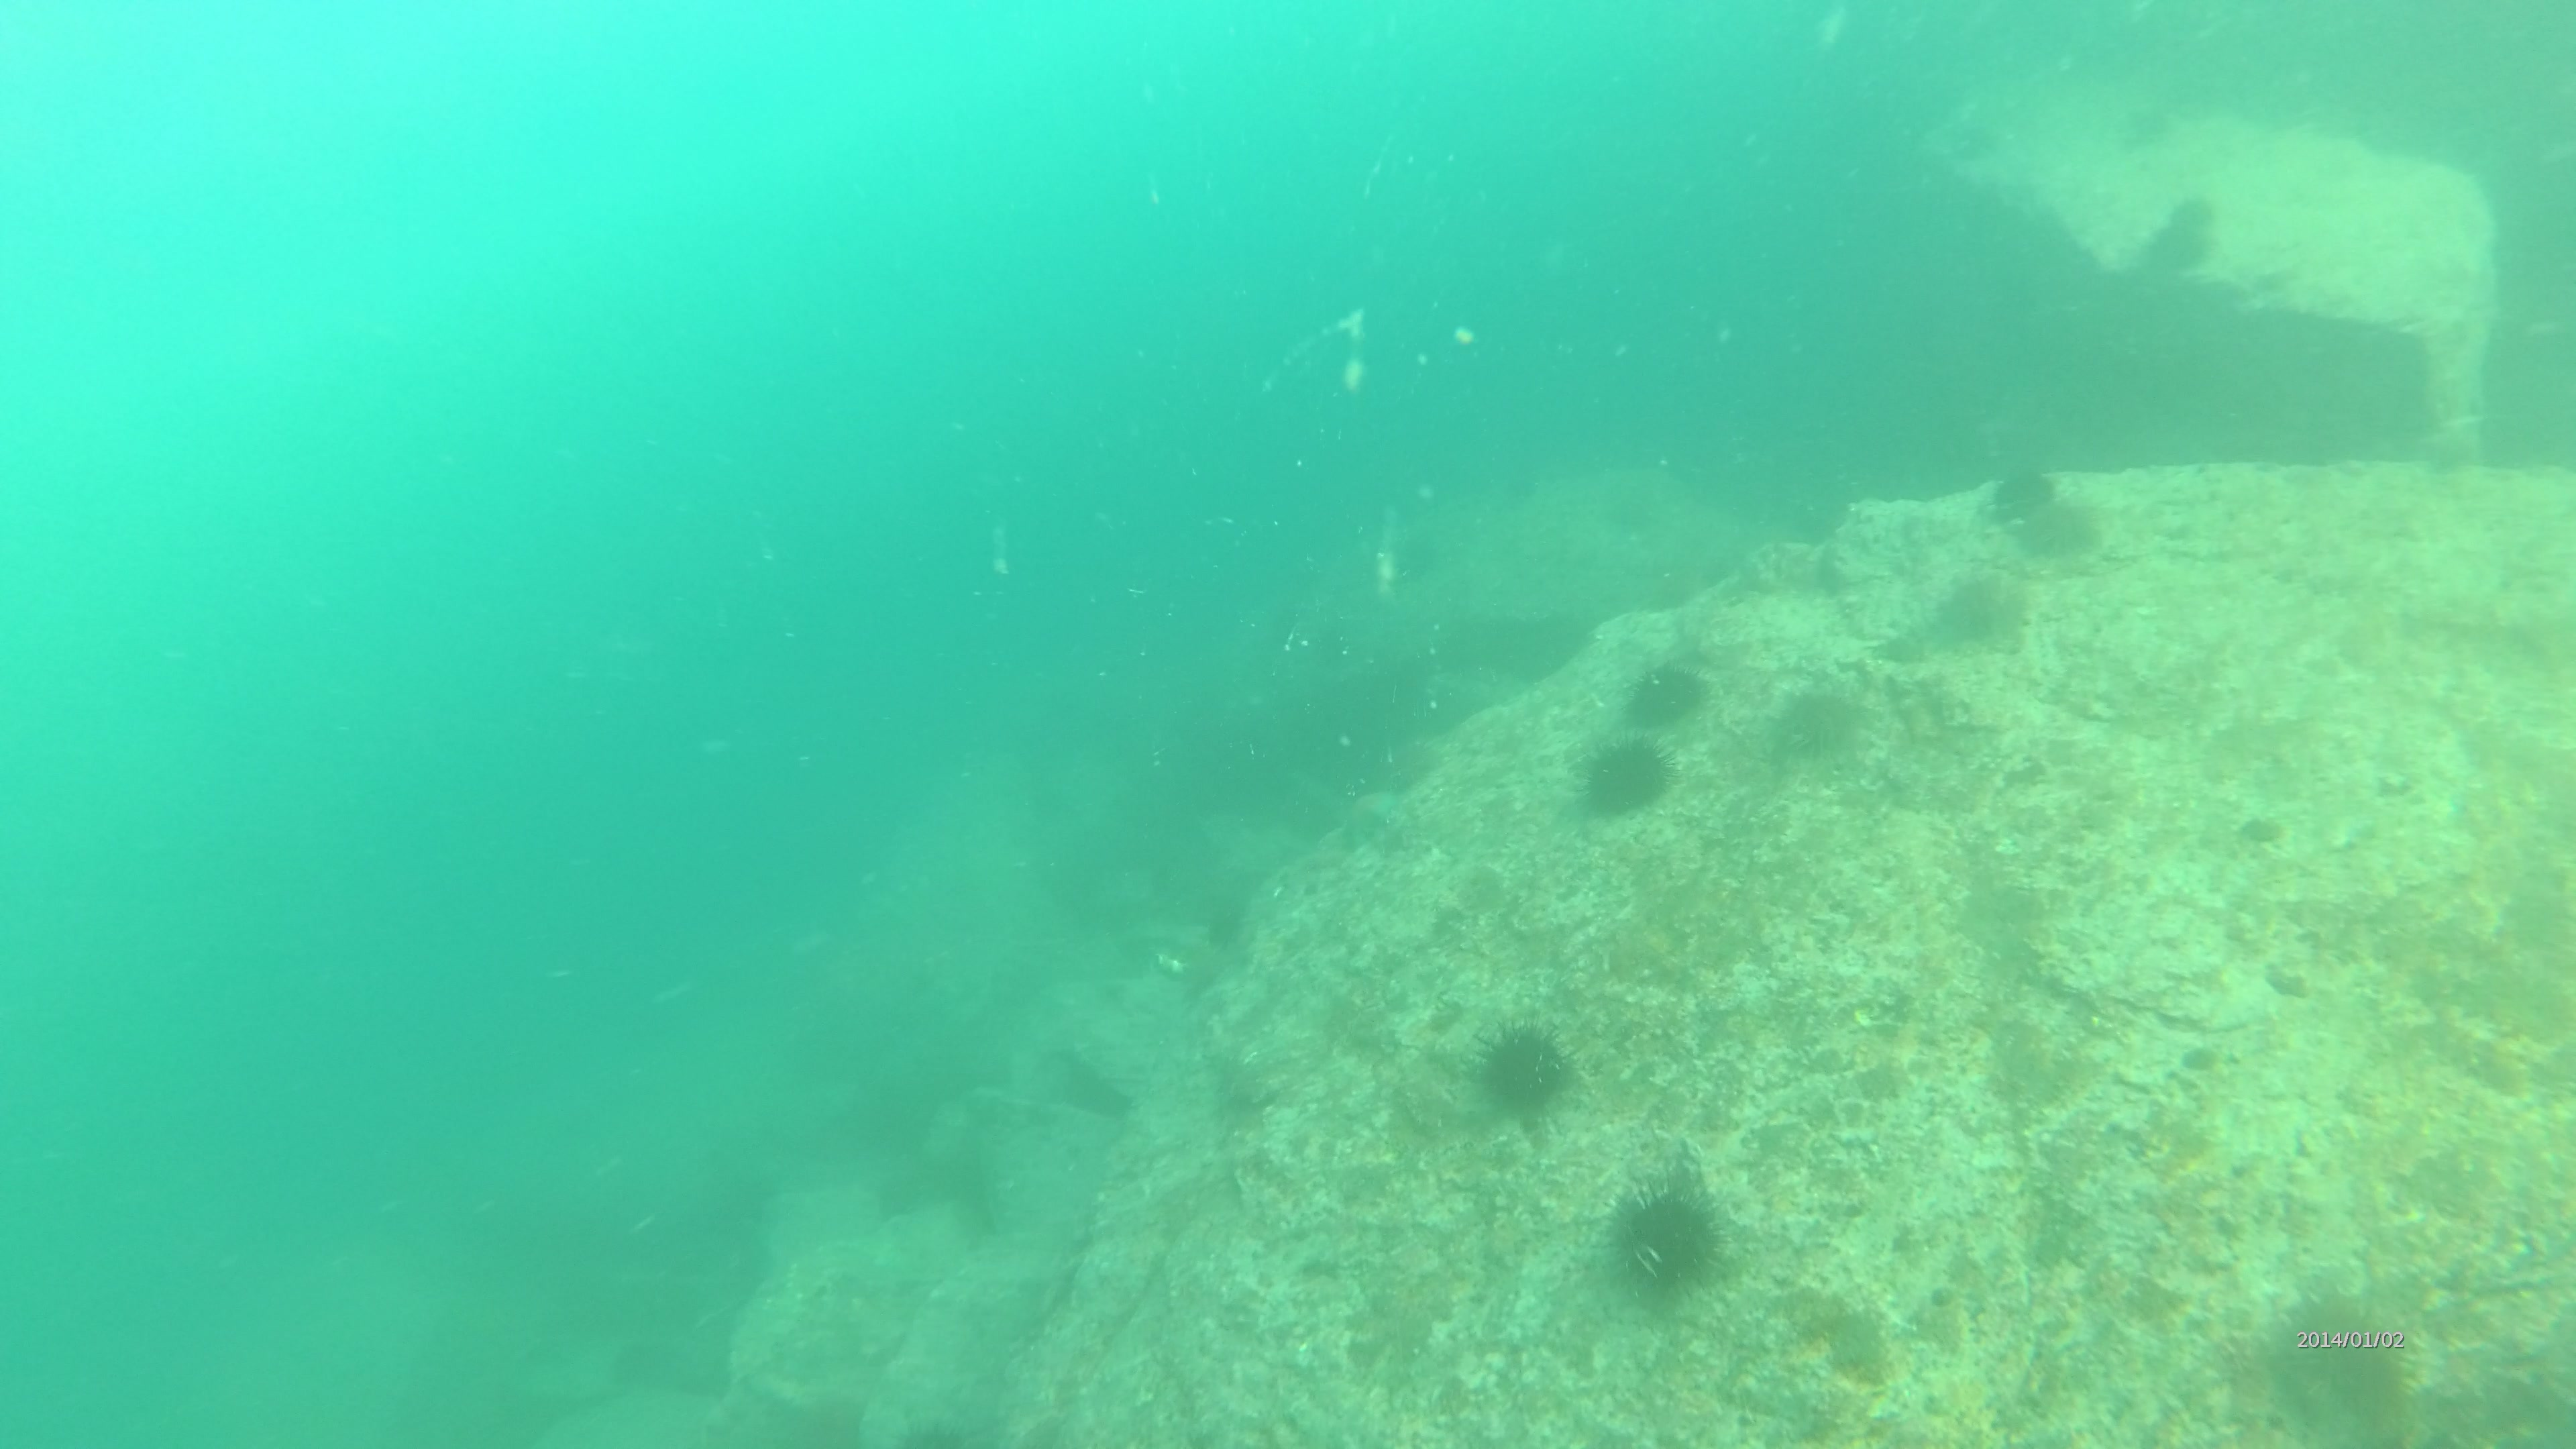echinus: (2261, 1279, 2424, 1440), (1612, 1171, 1730, 1313), (1477, 1014, 1585, 1123), (1585, 725, 1683, 828), (1771, 678, 1870, 763), (1624, 651, 1716, 738), (2013, 497, 2107, 571), (2153, 184, 2224, 269), (1987, 456, 2068, 517)
